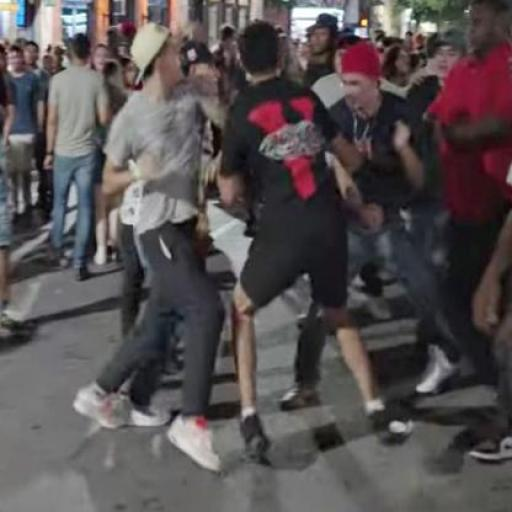Fighting: (75, 2, 512, 473)
